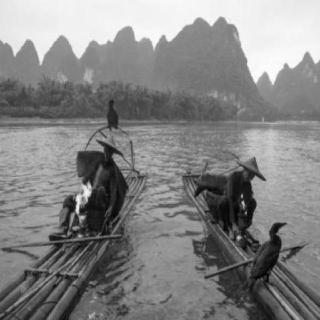Fire: (238, 188, 250, 220)
